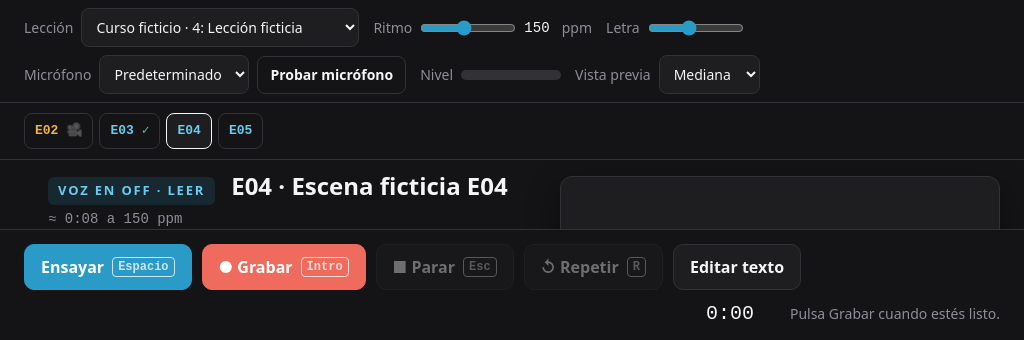
Test: Teleprompter: selección y prueba del micrófono › prueba el micrófono sin crear una grabadora y deja el flujo listo
The image size is (1024, 340).
Step 1. Click the button "Probar micrófono" → (332, 74), box [257,56,406,94]
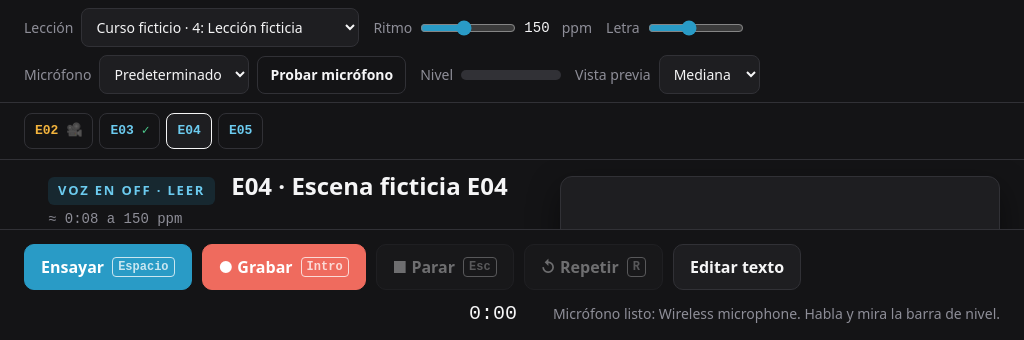
Expected: the text "Micrófono listo: Wireless microphone. Habla y mira la barra de nivel." is shown, [553,304,1000,324]
